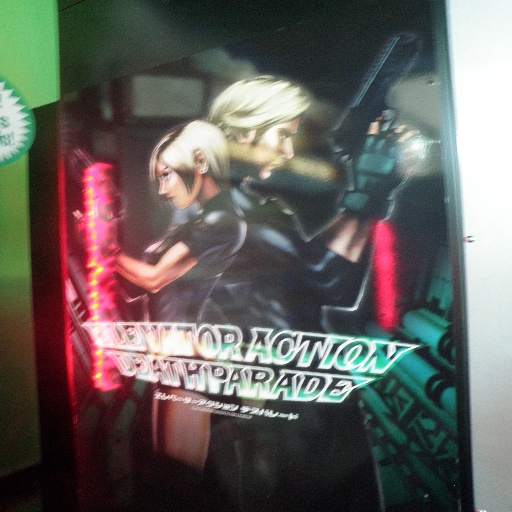hand: (350, 118, 424, 196), (69, 207, 84, 237)
